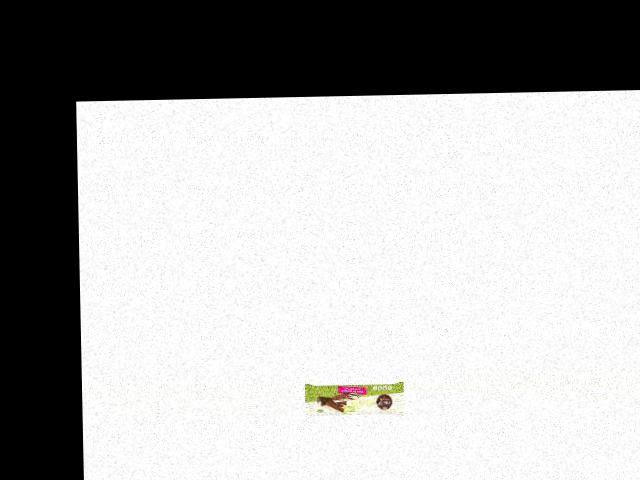chocolate: (302, 377, 404, 420)
